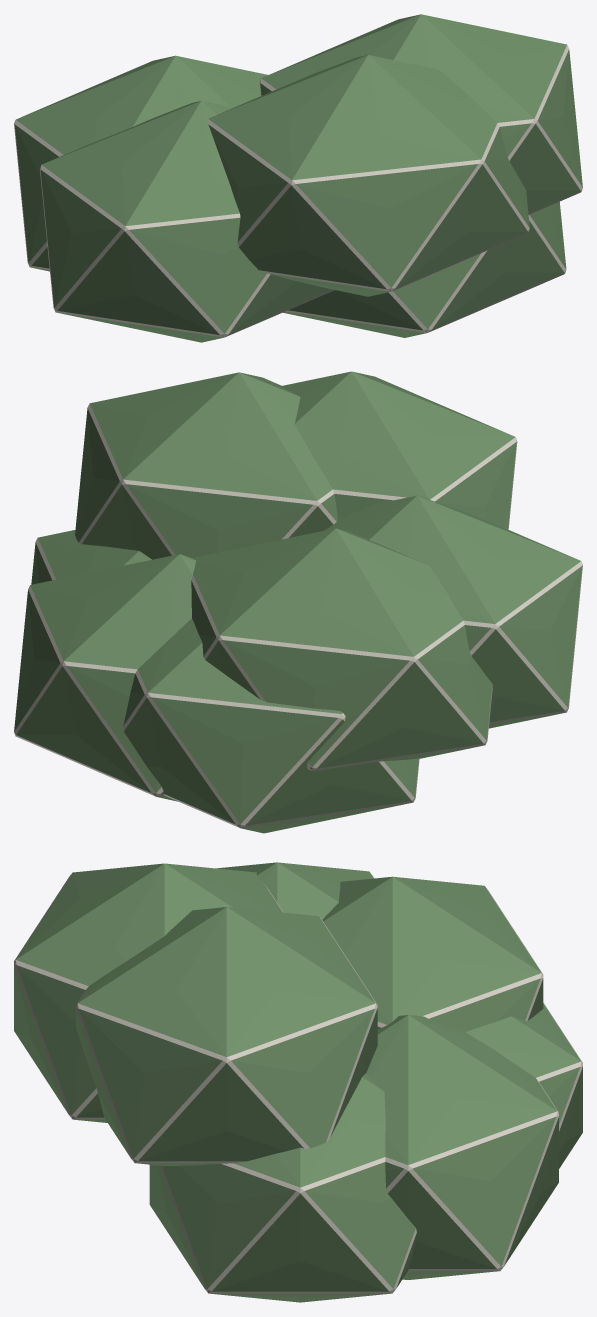
File: foliage_leaf_cluster.glb
3 renders of one model, top to bottom at view 1: azimuth 30°, elevation 25°; view 2: azimuth 150°, elevation 25°; view 3: azimuth 270°, elevation 25°, orthographic. The views are drawn at different scales.
Parts seen in each view (by area): view 1: scenery_leaf; view 2: scenery_leaf; view 3: scenery_leaf.
Part boxes in pixels (x1=…): scenery_leaf: x1=14, y1=14, x2=582, y2=342; scenery_leaf: x1=14, y1=371, x2=582, y2=833; scenery_leaf: x1=14, y1=862, x2=582, y2=1302.
Size of the model in its own units: 3.08 by 2.04 by 2.72.
